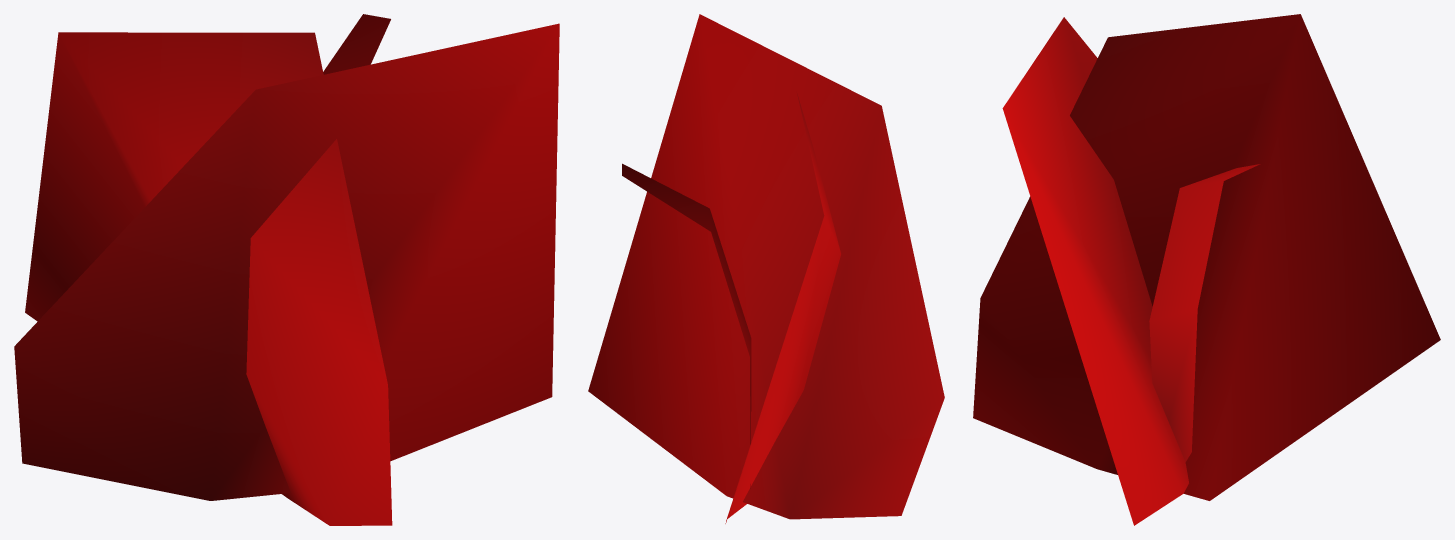
File: SM_BarleyPlant_2.fbx
3 renders of one model, left to right at view 1: azimuth 30°, elevation 25°; view 2: azimuth 150°, elevation 25°; view 3: azimuth 270°, elevation 25°, orthographic. The views are drawn at different scales.
Parts seen in each view (by area): view 1: SM_BarleyPlant_2; view 2: SM_BarleyPlant_2; view 3: SM_BarleyPlant_2.
Part boxes in pixels (left/top/right/bottom): SM_BarleyPlant_2: left=14, top=14, right=559, bottom=525; SM_BarleyPlant_2: left=588, top=14, right=944, bottom=523; SM_BarleyPlant_2: left=973, top=14, right=1440, bottom=525.
Size of the model in its own units: 0.3352 by 0.3376 by 0.3126.
